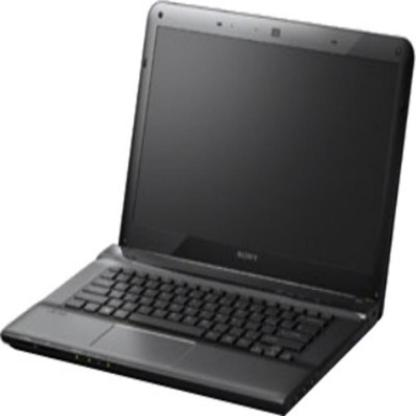board: (1, 3, 415, 410)
